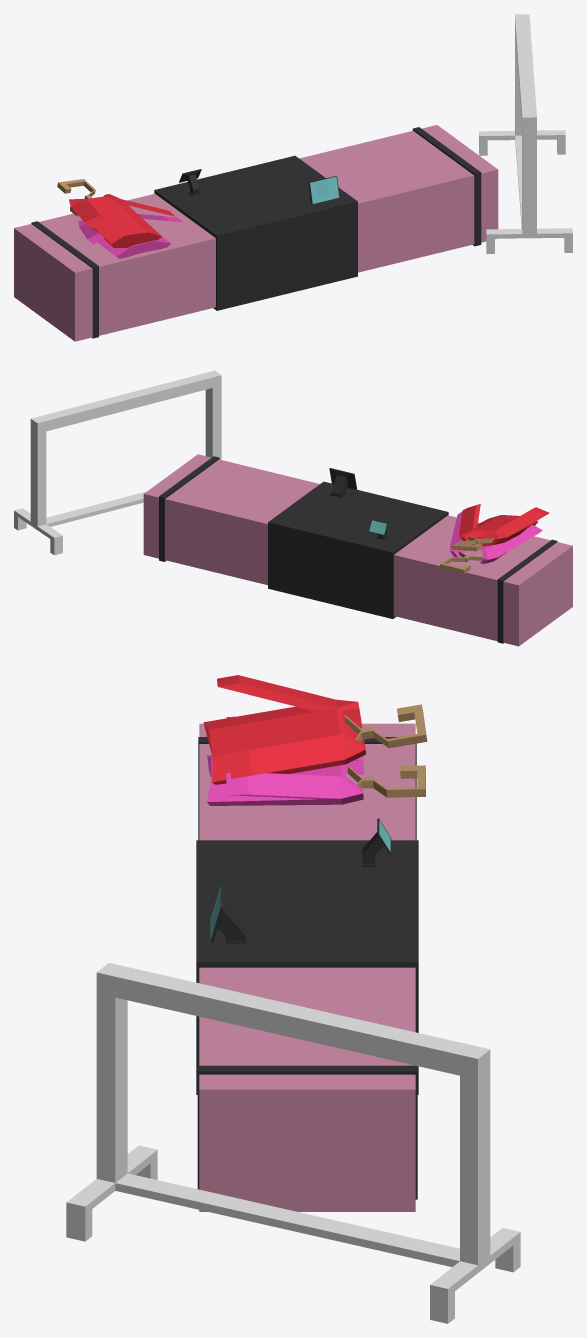
File: ClothingCheckout.fbx
3 renders of one model, top to bottom at view 1: azimuth 30°, elevation 25°; view 2: azimuth 150°, elevation 25°; view 3: azimuth 270°, elevation 25°, orthographic. The views are drawn at different scales.
Visible parts, largest first — view 1: Plane.061, Plane.063, Cylinder.008, Cylinder.007; view 2: Plane.061, Plane.063, Cylinder.008, Cylinder.007; view 3: Plane.061, Plane.063, Cylinder.008, Cylinder.007.
Boxes of the visible parts, x1,y1,x2,y2 form: Plane.061: (14,125,498,341); Plane.063: (479,14,572,254); Cylinder.008: (57,179,175,247); Cylinder.007: (70,206,183,258); Plane.061: (143,454,572,646); Plane.063: (14,370,221,555); Cylinder.008: (451,504,549,551); Cylinder.007: (440,512,542,573); Plane.061: (196,723,418,1211); Plane.063: (66,963,520,1323); Cylinder.008: (203,675,427,784); Cylinder.007: (207,716,425,805).
Bounding box in the file's own units: 530 × 129 × 210.
